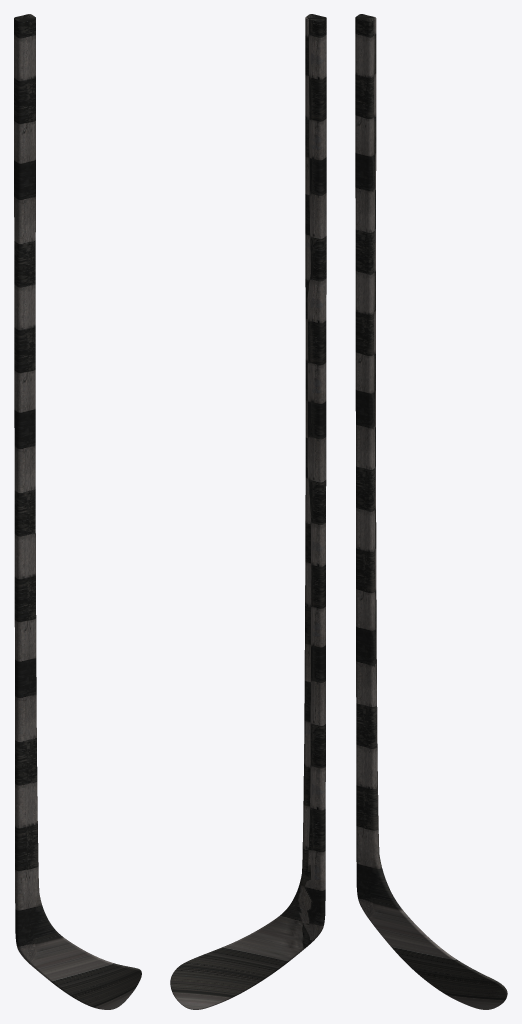
The model's file is P10-SBT.glb.
The picture shows the model from 3 angles, left to right: view 1: azimuth 30°, elevation 25°; view 2: azimuth 150°, elevation 25°; view 3: azimuth 330°, elevation 25°; orthographic projection. The views are drawn at different scales.
Visible parts, largest first — view 1: geometry_0; view 2: geometry_0; view 3: geometry_0.
Part boxes in pixels (x1,y1,x2,y2): geometry_0: (14,14,141,1009); geometry_0: (170,14,326,1009); geometry_0: (355,14,507,1009).
Size of the model in its own units: 237 by 1650 by 64.88.
Materials: 1 (1 with a texture image).
